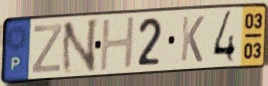2: (135, 15, 165, 69)
4: (210, 8, 239, 65)
H: (98, 15, 137, 74)
K: (179, 14, 206, 64)
N: (60, 16, 101, 77)
Z: (29, 22, 64, 75)
